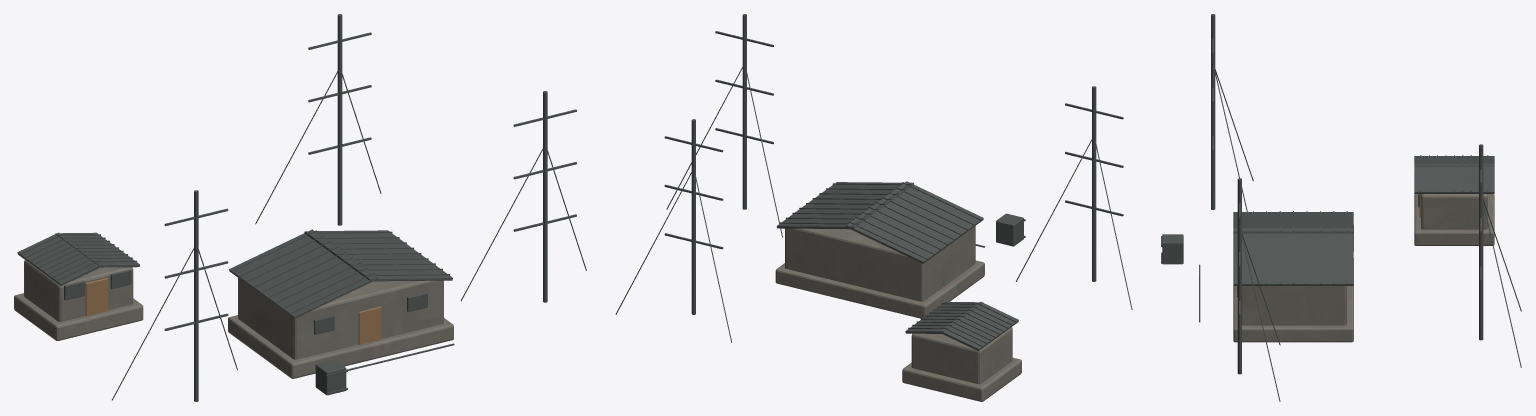
File: marble-lod2.glb
The picture shows the model from 3 angles, left to right: view 1: azimuth 30°, elevation 25°; view 2: azimuth 150°, elevation 25°; view 3: azimuth 270°, elevation 25°; orthographic projection. The views are drawn at different scales.
Visible parts, largest first — view 1: marble_shelter_0.001, marble_generator_shed_4.001, marble_antenna_3.001, marble_relay_mast_1.001, marble_mast_2.001, marble_radio_rack_5.001; view 2: marble_shelter_0.001, marble_generator_shed_4.001, marble_antenna_3.001, marble_relay_mast_1.001, marble_mast_2.001, marble_radio_rack_5.001; view 3: marble_shelter_0.001, marble_generator_shed_4.001, marble_mast_2.001, marble_antenna_3.001, marble_relay_mast_1.001, marble_radio_rack_5.001.
Part boxes in pixels (x1=…): marble_shelter_0.001: x1=228, y1=229, x2=453, y2=378; marble_generator_shed_4.001: x1=14, y1=232, x2=143, y2=340; marble_antenna_3.001: x1=255, y1=14, x2=381, y2=225; marble_relay_mast_1.001: x1=112, y1=190, x2=237, y2=401; marble_mast_2.001: x1=460, y1=91, x2=586, y2=302; marble_radio_rack_5.001: x1=315, y1=359, x2=347, y2=395; marble_shelter_0.001: x1=775, y1=181, x2=984, y2=318; marble_generator_shed_4.001: x1=902, y1=301, x2=1021, y2=401; marble_antenna_3.001: x1=615, y1=119, x2=731, y2=342; marble_relay_mast_1.001: x1=1016, y1=86, x2=1132, y2=309; marble_mast_2.001: x1=666, y1=14, x2=782, y2=237; marble_radio_rack_5.001: x1=996, y1=213, x2=1025, y2=246; marble_shelter_0.001: x1=1233, y1=211, x2=1353, y2=342; marble_generator_shed_4.001: x1=1414, y1=155, x2=1494, y2=245; marble_mast_2.001: x1=1237, y1=178, x2=1280, y2=401; marble_antenna_3.001: x1=1479, y1=144, x2=1521, y2=367; marble_relay_mast_1.001: x1=1211, y1=14, x2=1253, y2=211; marble_radio_rack_5.001: x1=1161, y1=234, x2=1183, y2=264.
Size of the model in its own units: 39.07 by 17 by 26.92.
3 materials, 3 textured.
